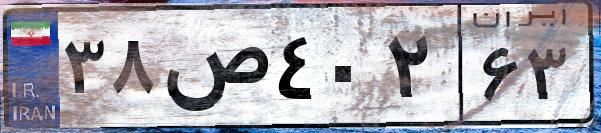0: (330, 28, 385, 110)
2: (385, 28, 445, 110)
3: (57, 26, 110, 100), (525, 38, 570, 115)
4: (270, 28, 330, 110)
6: (475, 38, 525, 113)
8: (110, 28, 158, 98)
ص: (158, 20, 270, 120)
